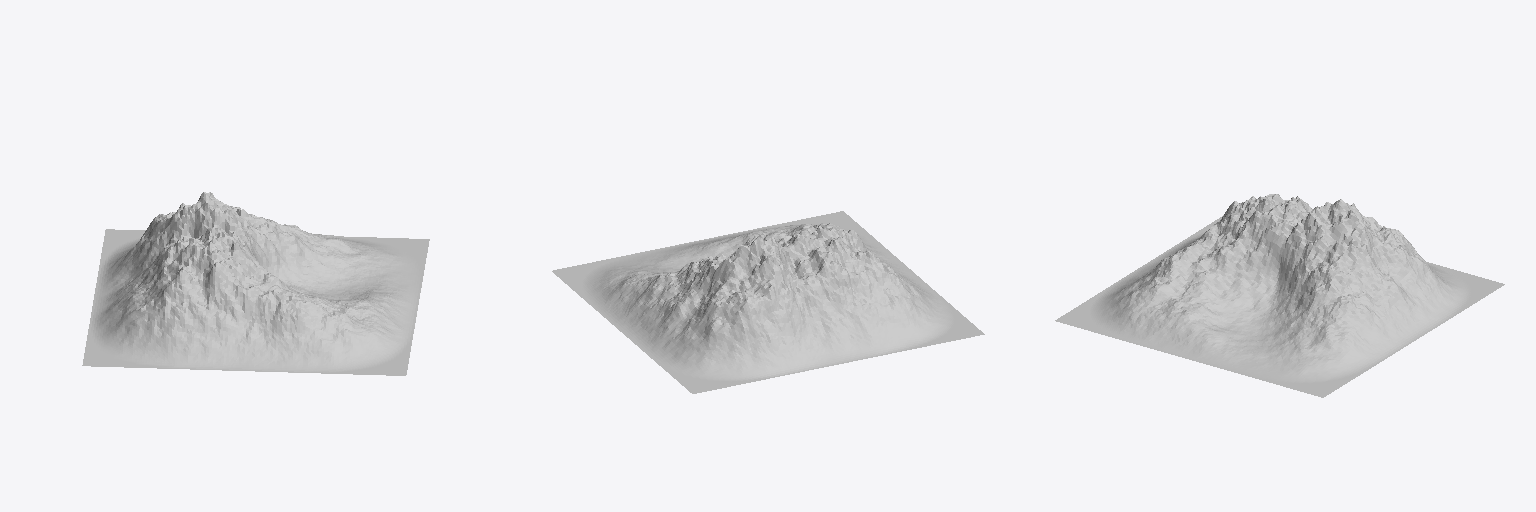
The model's file is Landscape1.obj.
3 views of the same model, side by side, from view 1: azimuth 30°, elevation 25°; view 2: azimuth 150°, elevation 25°; view 3: azimuth 270°, elevation 25° (orthographic).
Parts seen in each view (by area): view 1: Landscape; view 2: Landscape; view 3: Landscape.
Boxes of the visible parts, x1=… form: Landscape: x1=82, y1=192, x2=429, y2=375; Landscape: x1=552, y1=211, x2=984, y2=393; Landscape: x1=1055, y1=194, x2=1504, y2=397.
Size of the model in its own units: 1809 by 413 by 1809.